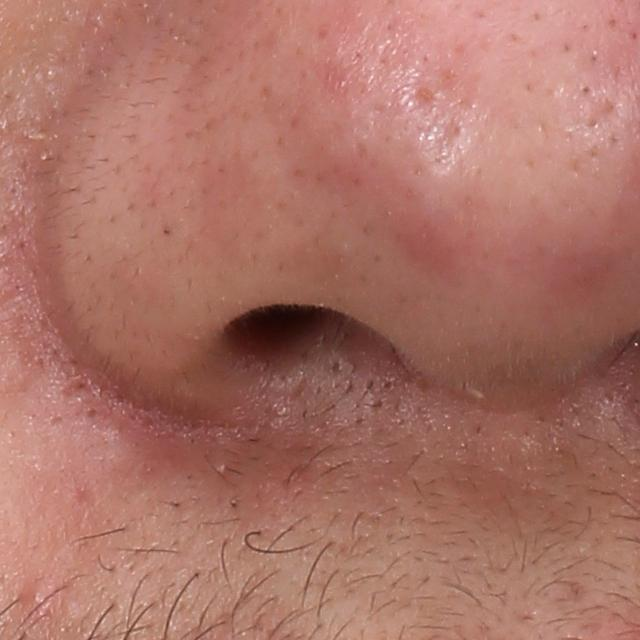papule: (21, 582, 53, 610)
